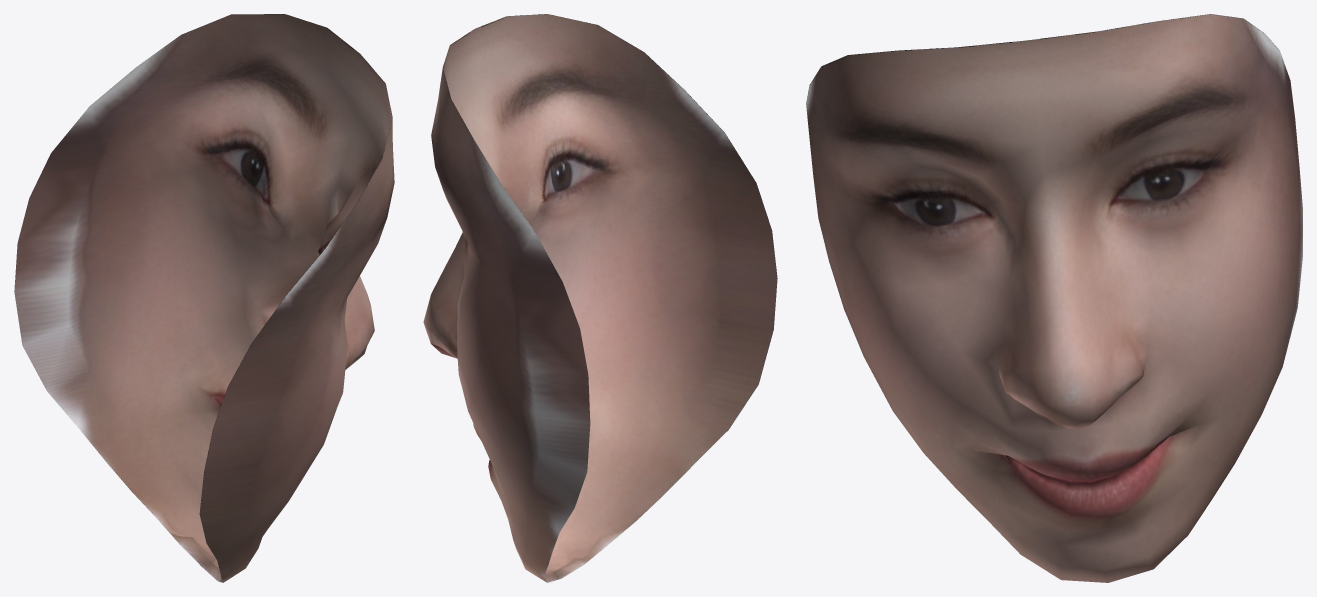
Rendered from bigo_indonesia.glb.
The picture shows the model from 3 angles, left to right: view 1: azimuth 30°, elevation 25°; view 2: azimuth 150°, elevation 25°; view 3: azimuth 270°, elevation 25°; orthographic projection. The views are drawn at different scales.
Visible parts, largest first — view 1: bigo_indonesia; view 2: bigo_indonesia; view 3: bigo_indonesia.
Part boxes in pixels (bbox=[...]): bigo_indonesia: bbox=[14, 14, 394, 582]; bigo_indonesia: bbox=[423, 14, 777, 582]; bigo_indonesia: bbox=[806, 14, 1302, 582].
Size of the model in its own units: 0.4343 by 0.8244 by 0.5996.
Materials: 1 (1 with a texture image).
